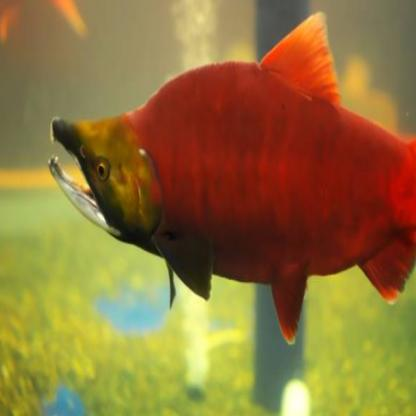sockeye: (51, 32, 416, 341)
